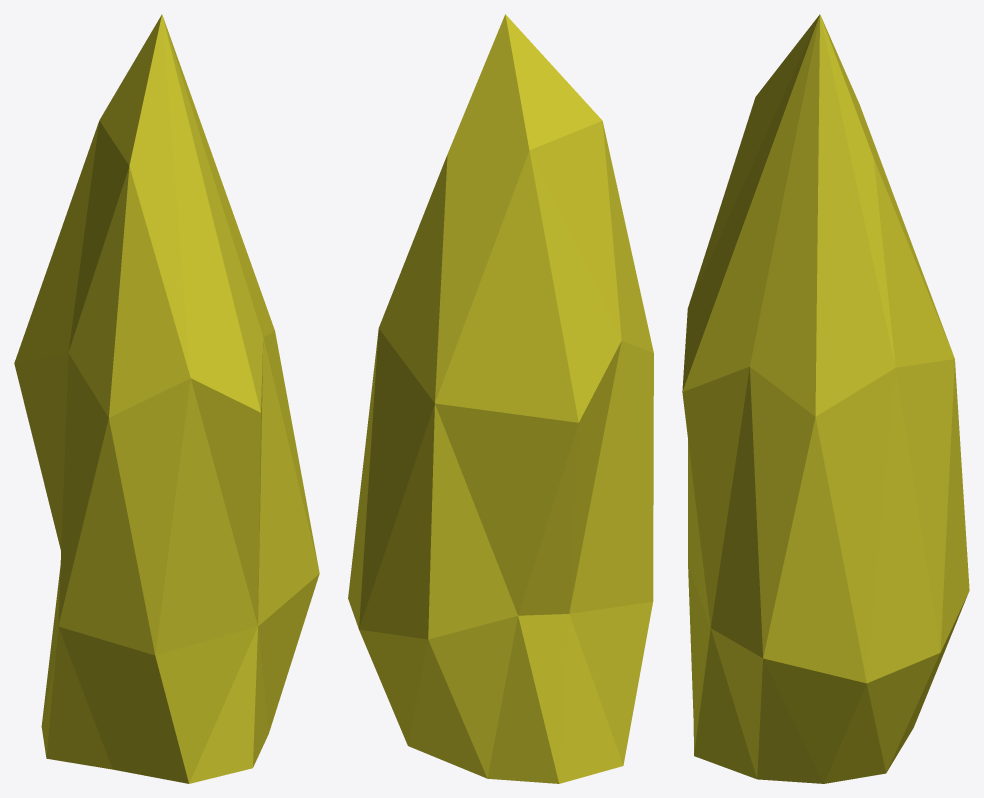
The model's file is Tree_4.fbx.
The picture shows the model from 3 angles, left to right: view 1: azimuth 30°, elevation 25°; view 2: azimuth 150°, elevation 25°; view 3: azimuth 270°, elevation 25°; orthographic projection.
Visible parts, largest first — view 1: Tree_4; view 2: Tree_4; view 3: Tree_4.
Part boxes in pixels (x1,y1,x2,y2): Tree_4: [14, 14, 319, 783]; Tree_4: [348, 14, 653, 783]; Tree_4: [682, 14, 969, 783].
Size of the model in its own units: 422 by 1121 by 401.
